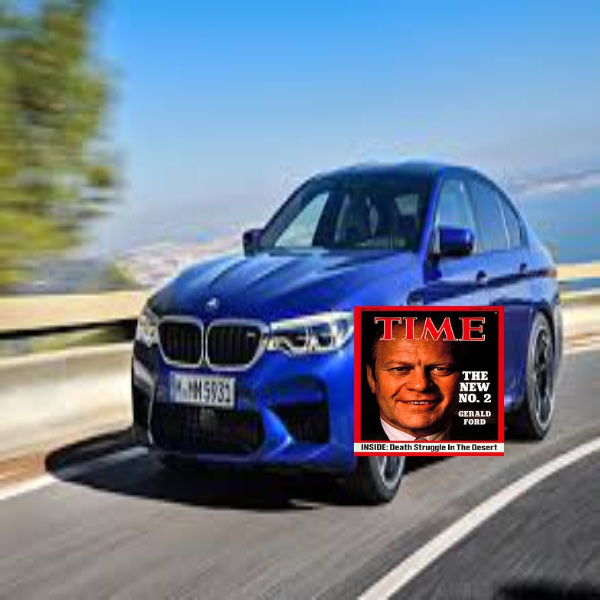time_cover: (344, 298, 513, 462)
